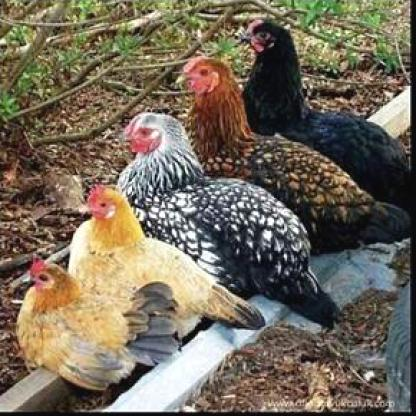chicken: (118, 112, 340, 328), (176, 56, 410, 252), (240, 17, 414, 220), (70, 185, 267, 333), (16, 258, 179, 389)
